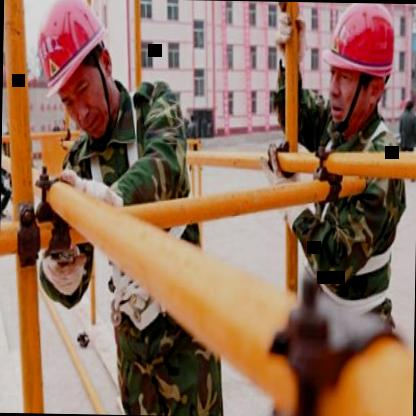helmet: (27, 0, 132, 148), (313, 2, 405, 140)
